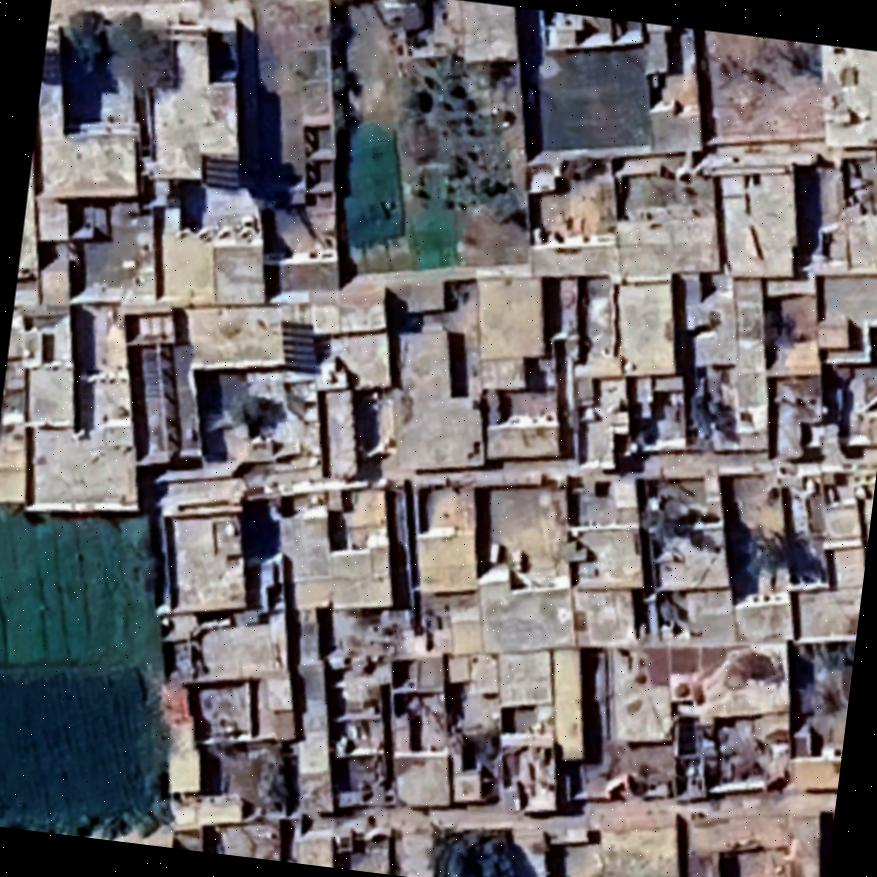Solarpanel: (271, 316, 329, 380)
